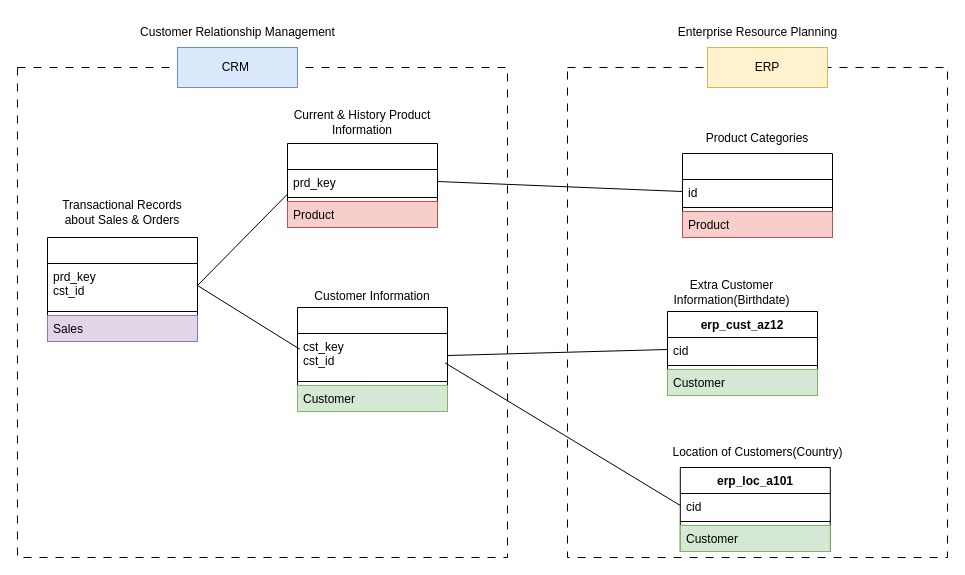
The diagram is 965 pixels wide and 575 high, and some of its shapes have lost their labels. Each missing label, with the box of its shape:
crm_cust_info: (296, 306, 448, 412)
crm_prd_info: (286, 142, 438, 228)
crm_sales_details: (46, 236, 198, 342)
erp_px_cat_g1v2: (682, 152, 832, 238)
